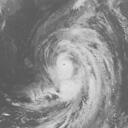cyclone: (21, 3, 120, 127)
